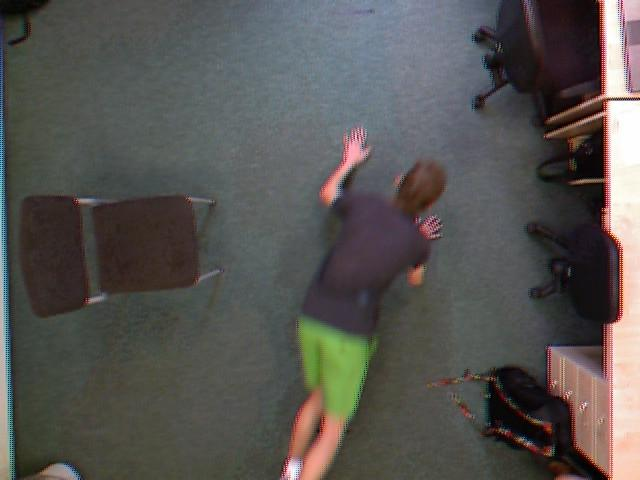fall: (277, 128, 454, 480)
